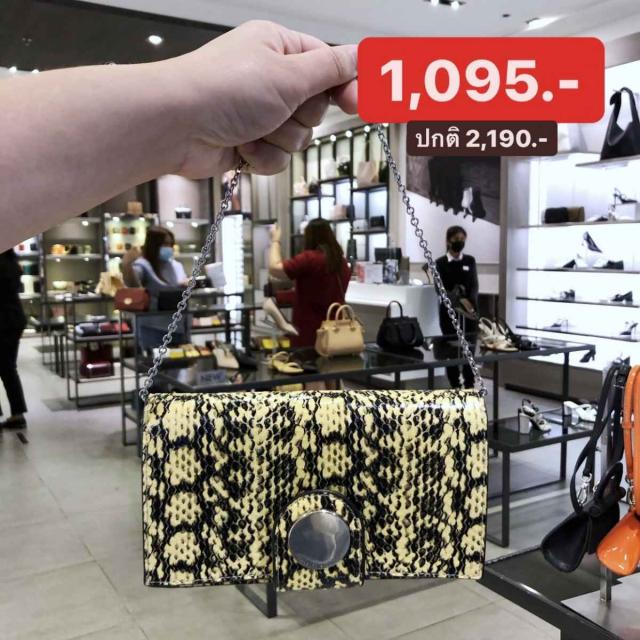Handbag: (142, 387, 484, 589)
